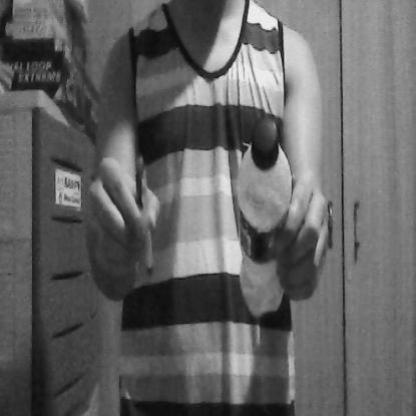Plastic Bottle: (233, 103, 297, 324)
